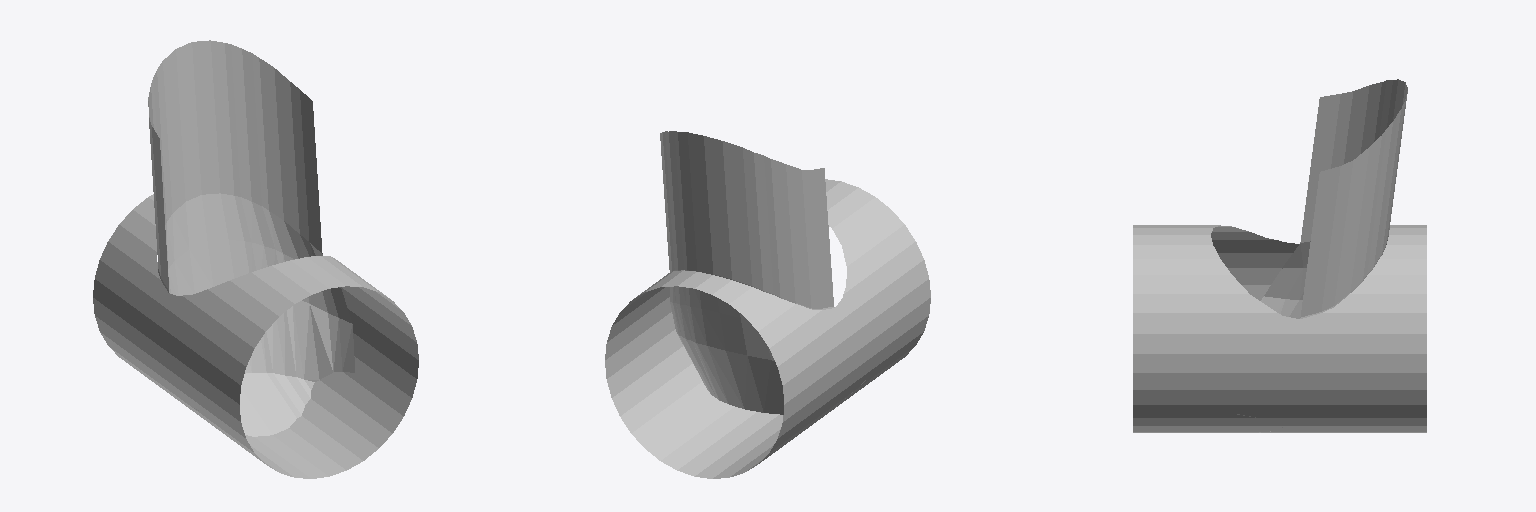
The model's file is cylinder_out_ter.obj.
3 views of the same model, side by side, from view 1: azimuth 30°, elevation 25°; view 2: azimuth 150°, elevation 25°; view 3: azimuth 270°, elevation 25° (orthographic).
Visible parts, largest first — view 1: out.001; view 2: out.001; view 3: out.001.
Boxes of the visible parts, x1,y1,x2,y2 form: out.001: [93, 40, 418, 478]; out.001: [605, 131, 930, 478]; out.001: [1133, 79, 1426, 432].
Size of the model in its own units: 2.33 by 4.14 by 3.29.